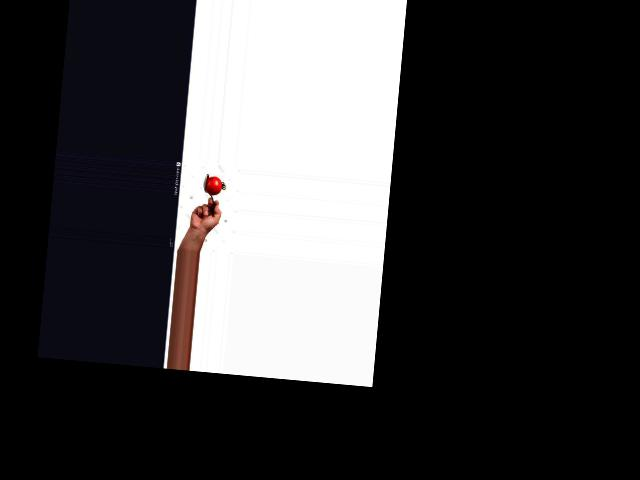tomato: (205, 176, 222, 196)
